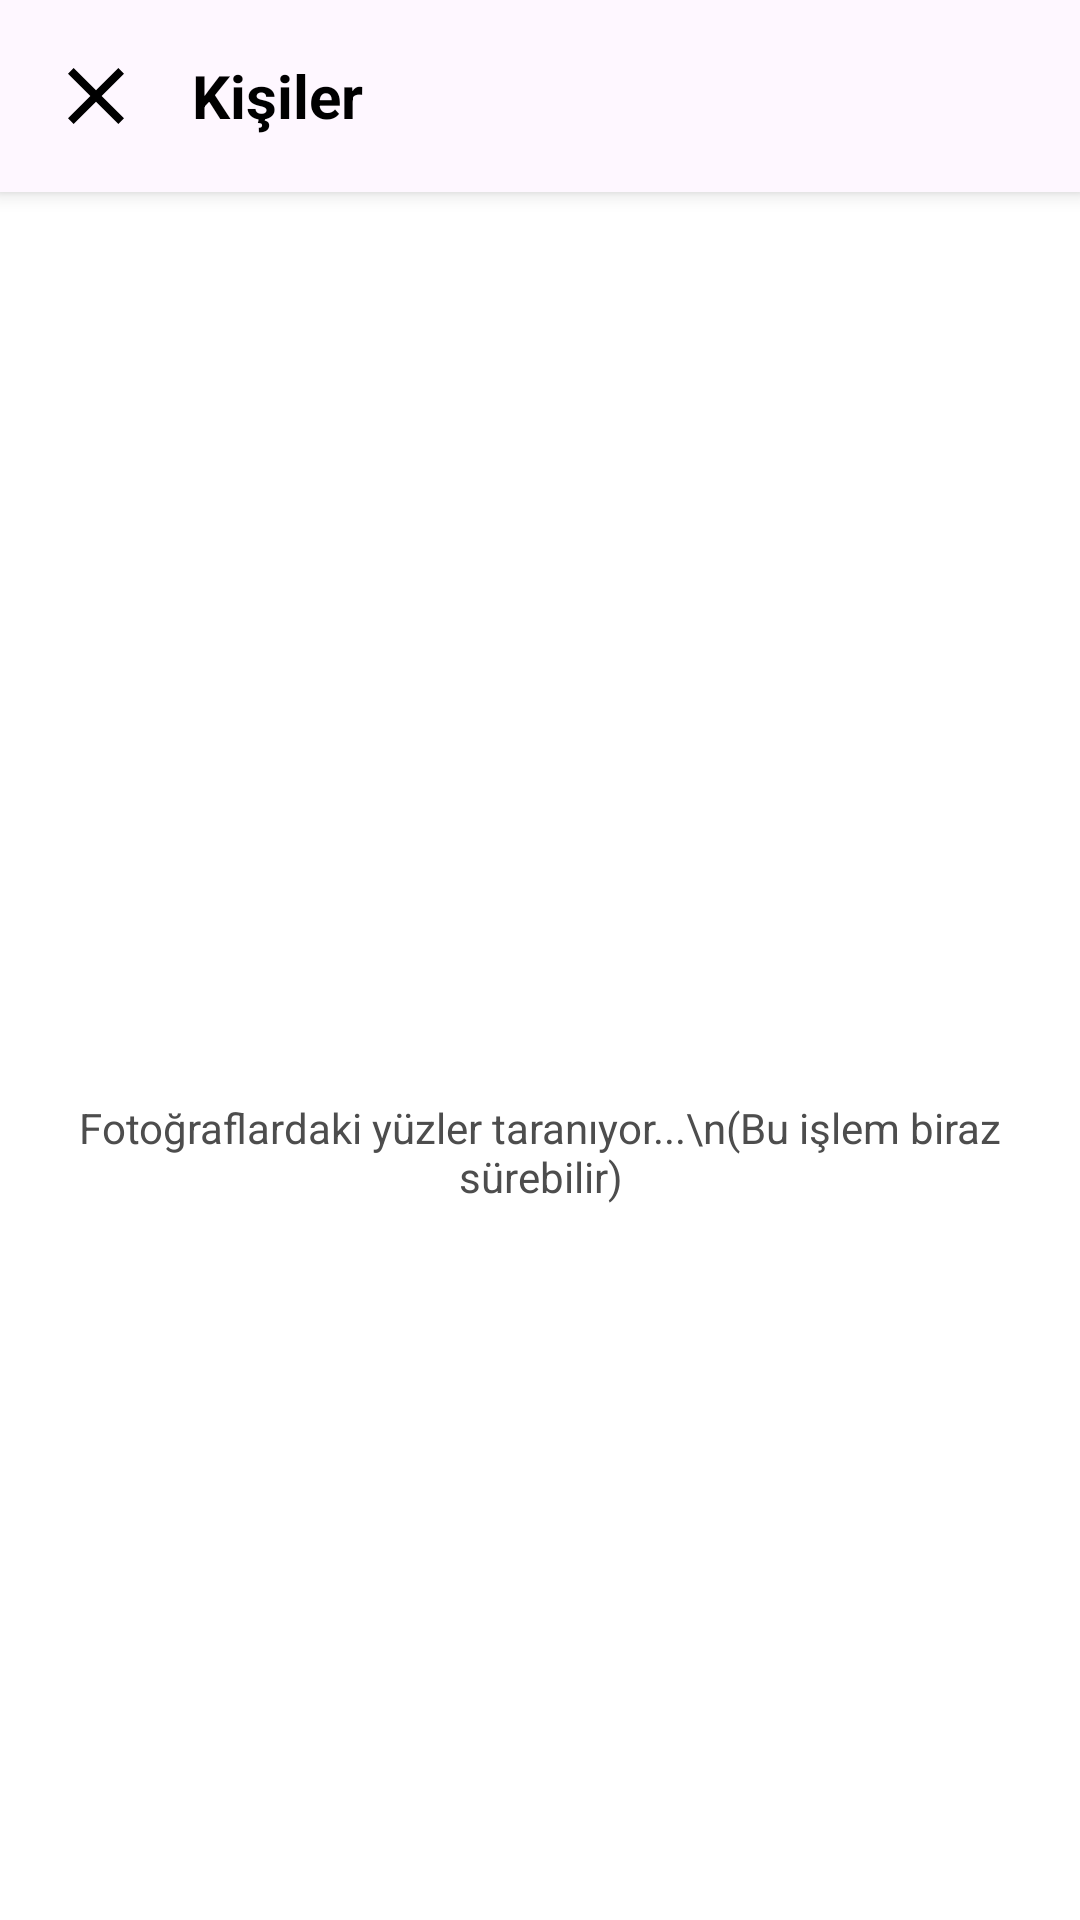

Where icons sit on this 1080w x 1920h app screen, as (x1, y1, x2, y2):
close: (68, 68, 124, 124)
